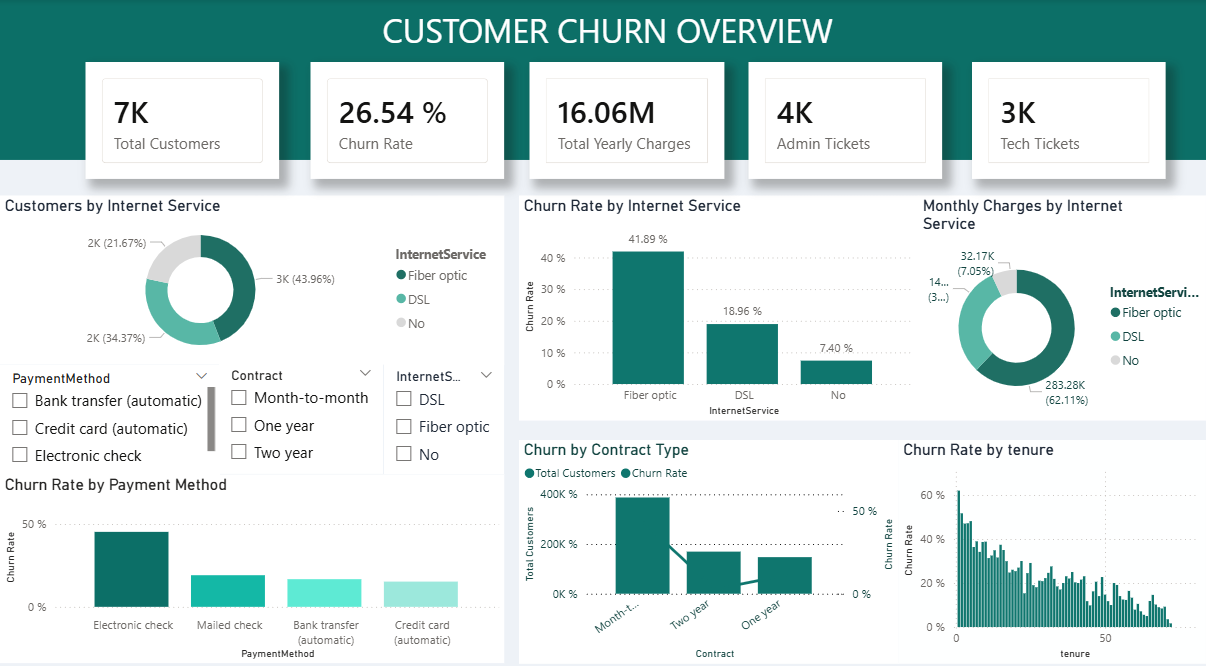

This screenshot's page, from the dashboard's own definition file:
{"tool":"powerbi","page":{"name":"Page ١","canvas":[1280,720],"ordinal":0},"visuals":[{"type":"clusteredColumnChart","title":"Churn Rate by Internet Service","fields":{"Category":["01 Churn-Dataset.InternetService"],"Y":["01 Churn-Dataset.Churn Rate"]},"box":[550.4,208.4,423.1,238.6],"z":0},{"type":"donutChart","title":"Customers by Internet Service","fields":{"Category":["01 Churn-Dataset.InternetService"],"Y":["01 Churn-Dataset.Total Customers"]},"box":[0,208.6,534.5,179.3],"z":1000},{"type":"donutChart","title":"Monthly Charges by Internet Service","fields":{"Category":["01 Churn-Dataset.InternetService"],"Y":["01 Churn-Dataset.Total Monthly Charges"]},"box":[973.5,208.4,305.4,238.6],"z":2000},{"type":"lineClusteredColumnComboChart","title":"Churn by Contract Type","fields":{"Category":["01 Churn-Dataset.Contract"],"Y":["01 Churn-Dataset.Total Customers"],"Y2":["01 Churn-Dataset.Churn Rate"]},"box":[550.4,467.6,402.4,237],"z":3000},{"type":"columnChart","fields":{"Category":["01 Churn-Dataset.tenure"],"Y":["01 Churn-Dataset.Churn Rate"]},"box":[952.8,467.6,326.1,237],"z":4000},{"type":"clusteredColumnChart","title":"Churn Rate by Payment Method","fields":{"Category":["01 Churn-Dataset.PaymentMethod"],"Y":["01 Churn-Dataset.Churn Rate"]},"box":[0,503.4,534.5,200],"z":5000},{"type":"slicer","fields":{"Values":["01 Churn-Dataset.Contract"]},"box":[232.8,384.5,174.1,119],"z":6000},{"type":"slicer","fields":{"Values":["01 Churn-Dataset.InternetService"]},"box":[406.9,386.2,127.6,117.2],"z":7000},{"type":"slicer","fields":{"Values":["01 Churn-Dataset.PaymentMethod"]},"box":[0,387.9,232.8,117.2],"z":8000},{"type":"shape","box":[0,0,1279.3,170.7],"z":9000},{"type":"cardVisual","fields":{"Data":["01 Churn-Dataset.Churn Rate"]},"box":[329.3,67.2,205.2,124.1],"z":10000},{"type":"cardVisual","fields":{"Data":["01 Churn-Dataset.Total Customers"]},"box":[91.4,67.2,205.2,124.1],"z":11000},{"type":"cardVisual","fields":{"Data":["01 Churn-Dataset.Total Yearly Charges"]},"box":[562.1,67.2,206.9,124.1],"z":12000},{"type":"cardVisual","fields":{"Data":["01 Churn-Dataset.Admin Tickets"]},"box":[793.7,66.8,205.2,124.1],"z":13000},{"type":"cardVisual","fields":{"Data":["01 Churn-Dataset.Tech Tickets"]},"box":[1031,67.2,205.2,124.1],"z":14000},{"type":"shape","box":[335.6,4.8,617.2,55.7],"z":15000}]}

Visuals, with their boxes in screenshot pixels (x1, y1, x2, y2), scaled from the page's 1280x720 canvas onto the 1206x666 screenshot:
"Churn Rate by Internet Service" clusteredColumnChart: crop(519, 193, 917, 413)
"Customers by Internet Service" donutChart: crop(0, 193, 504, 359)
"Monthly Charges by Internet Service" donutChart: crop(917, 193, 1205, 413)
"Churn by Contract Type" lineClusteredColumnComboChart: crop(519, 433, 898, 652)
columnChart - 01 Churn-Dataset.tenure x 01 Churn-Dataset.Churn Rate: crop(898, 433, 1205, 652)
"Churn Rate by Payment Method" clusteredColumnChart: crop(0, 466, 504, 651)
slicer - 01 Churn-Dataset.Contract: crop(219, 356, 383, 466)
slicer - 01 Churn-Dataset.InternetService: crop(383, 357, 504, 466)
slicer - 01 Churn-Dataset.PaymentMethod: crop(0, 359, 219, 467)
shape: crop(0, 0, 1205, 158)
cardVisual - 01 Churn-Dataset.Churn Rate: crop(310, 62, 504, 177)
cardVisual - 01 Churn-Dataset.Total Customers: crop(86, 62, 279, 177)
cardVisual - 01 Churn-Dataset.Total Yearly Charges: crop(530, 62, 725, 177)
cardVisual - 01 Churn-Dataset.Admin Tickets: crop(748, 62, 941, 177)
cardVisual - 01 Churn-Dataset.Tech Tickets: crop(971, 62, 1165, 177)
shape: crop(316, 4, 898, 56)
